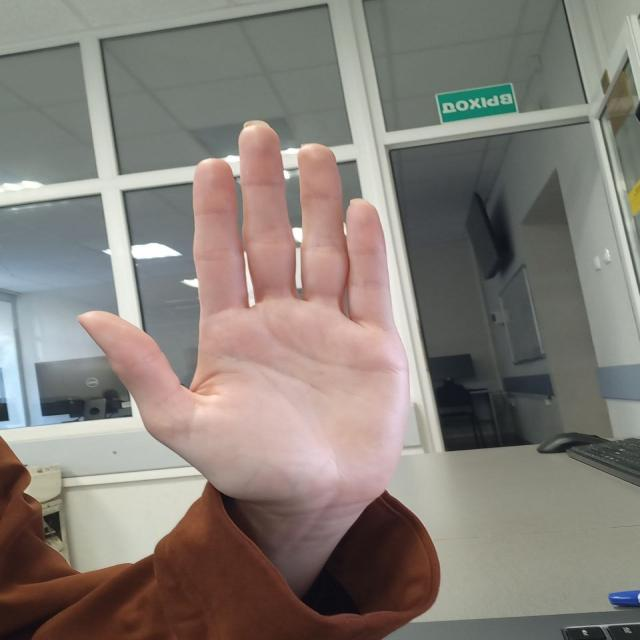v: (69, 112, 424, 495)
